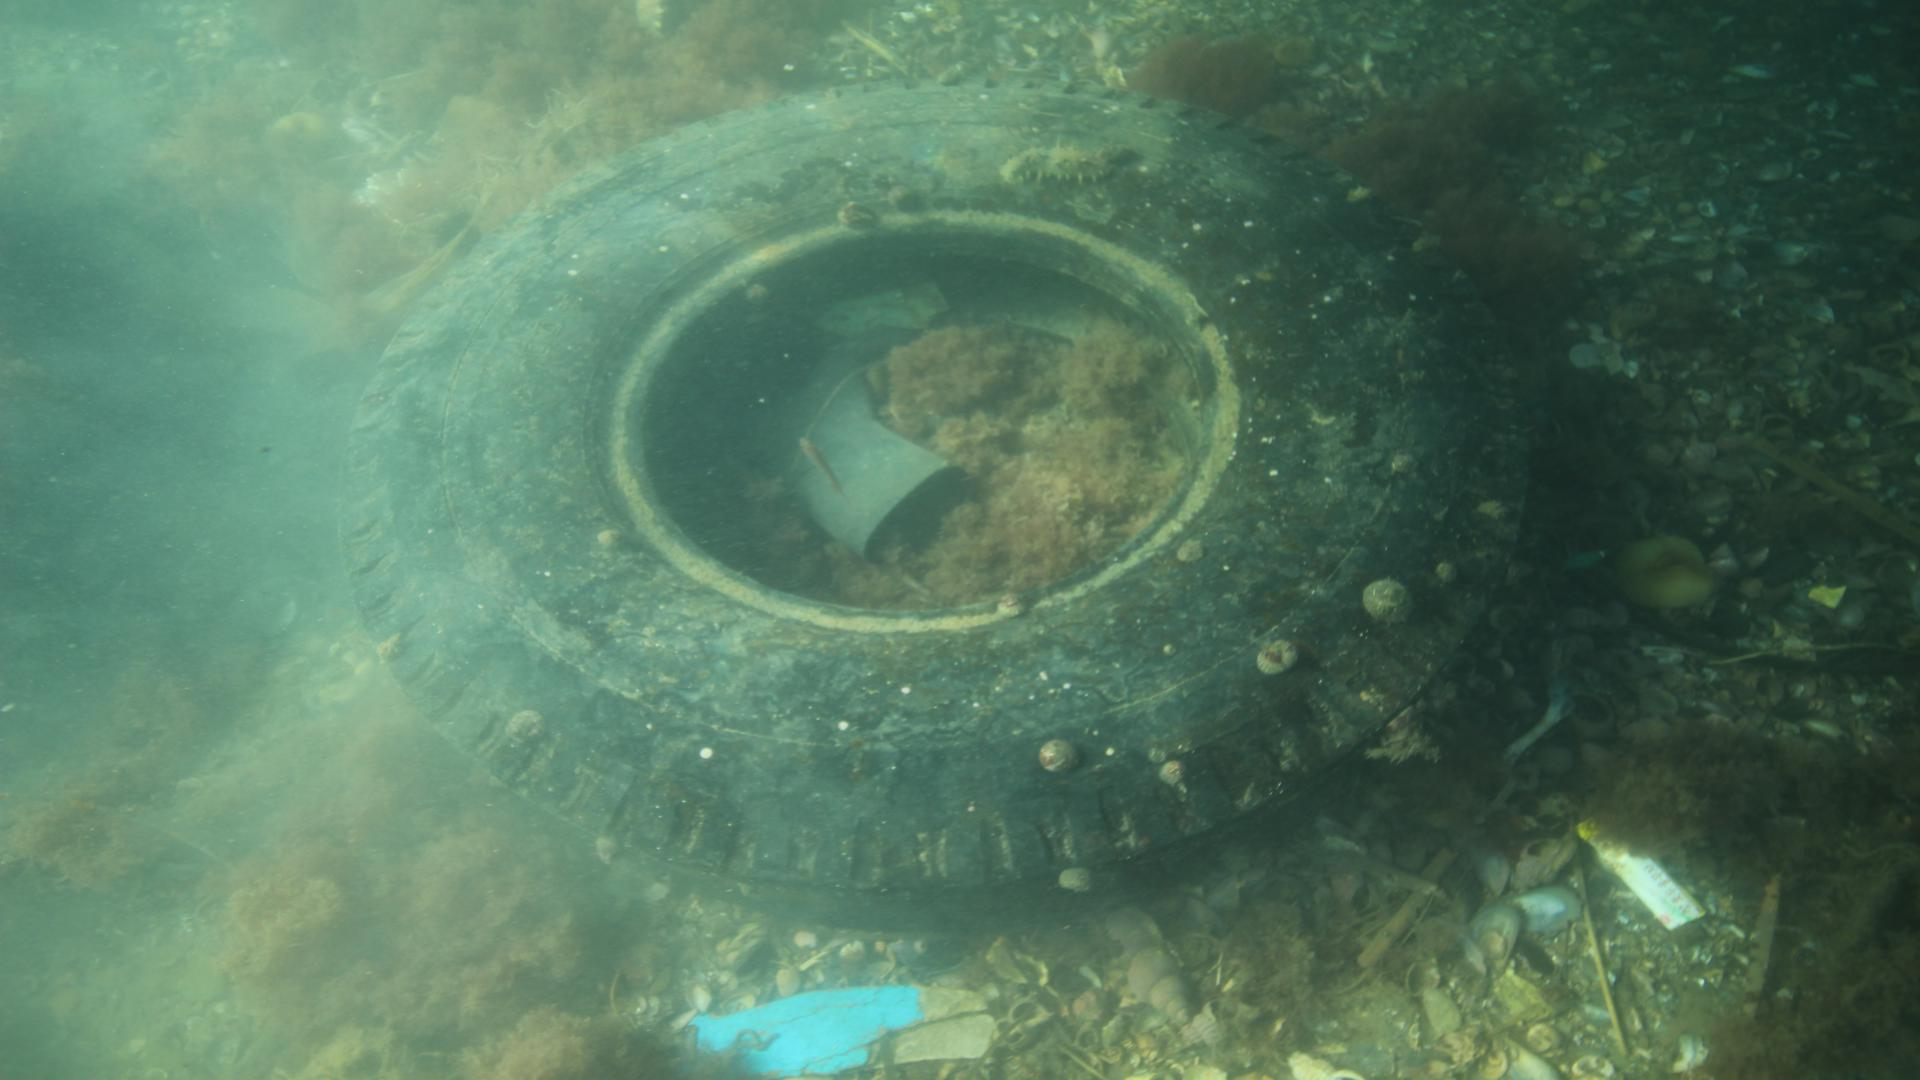tire: (338, 73, 1534, 934)
